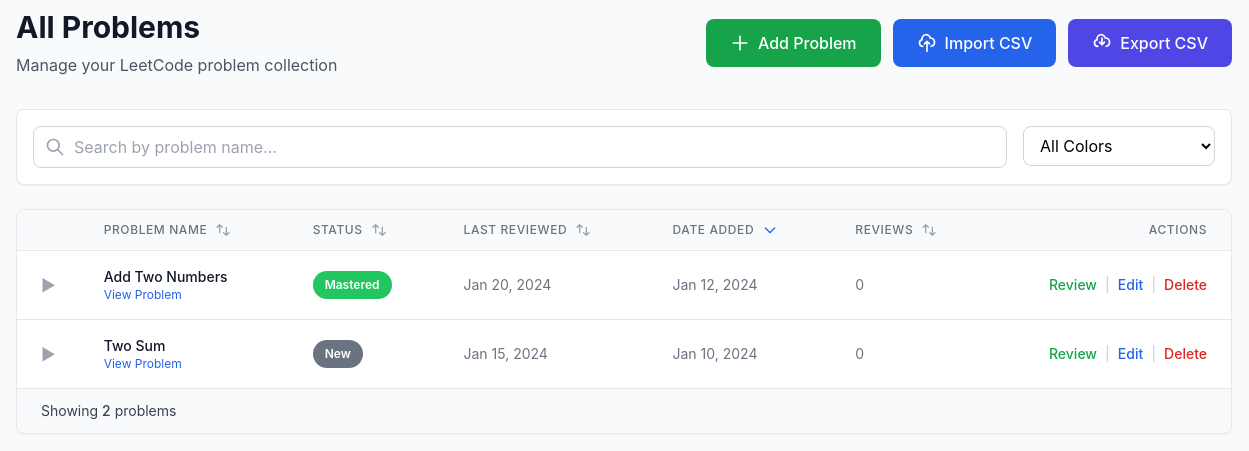
Test: AllProblems › Filtering › should filter problems by search query
Expected: the text "Two Sum" is shown, [104,337,165,354]
Type "Add" into the field with placeholder "Search by problem name...".
click(520, 147); type("Add")  # box [33,126,1007,168]
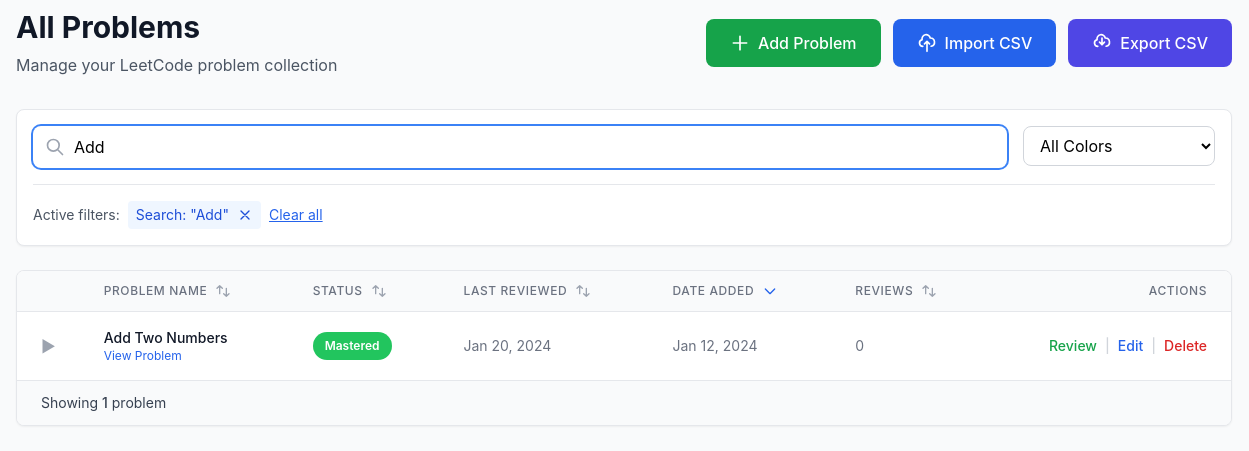
Expected: the text "Add Two Numbers" is shown, [104,329,228,346]
Expected: the text "Two Sum" is gone
